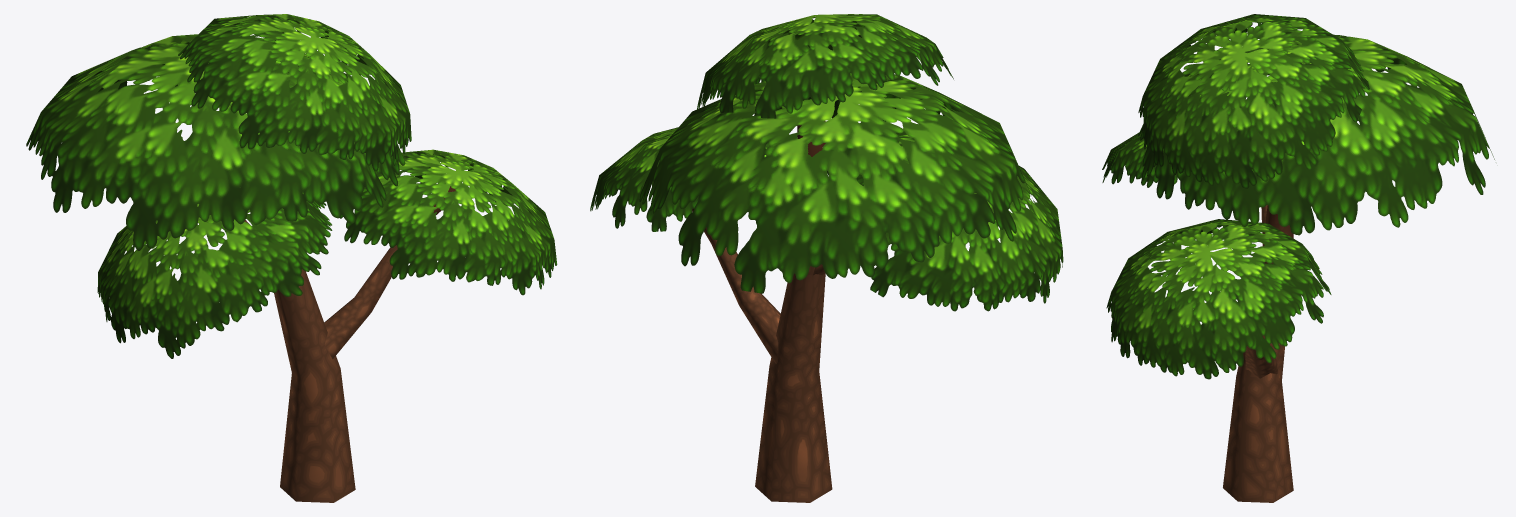
Rendered from Tree_03b.FBX.
The picture shows the model from 3 angles, left to right: view 1: azimuth 30°, elevation 25°; view 2: azimuth 150°, elevation 25°; view 3: azimuth 270°, elevation 25°; orthographic projection. The views are drawn at different scales.
Visible parts, largest first — view 1: Tree_03b; view 2: Tree_03b; view 3: Tree_03b.
Boxes of the visible parts, x1,y1,x2,y2 form: Tree_03b: (26,14,557,502); Tree_03b: (590,14,1063,502); Tree_03b: (1102,14,1494,502).
Size of the model in its own units: 139 by 138 by 116.
1 material, 1 textured.
